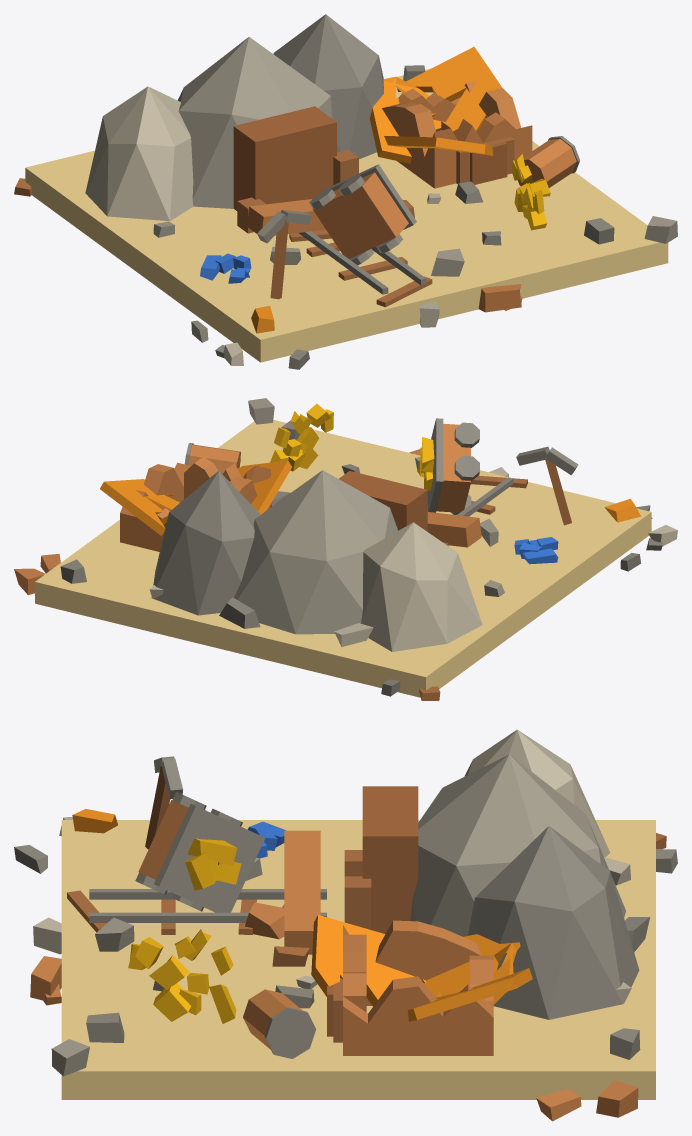
The model's file is mine_t2_v1_dmg2.glb.
3 renders of one model, top to bottom at view 1: azimuth 30°, elevation 25°; view 2: azimuth 150°, elevation 25°; view 3: azimuth 270°, elevation 25°, orthographic. The views are drawn at different scales.
Parts seen in each view (by area): view 1: mine_t2_v1_dmg2; view 2: mine_t2_v1_dmg2; view 3: mine_t2_v1_dmg2.
Boxes of the visible parts, x1,y1,x2,y2 form: mine_t2_v1_dmg2: (14, 14, 677, 369); mine_t2_v1_dmg2: (14, 398, 677, 700); mine_t2_v1_dmg2: (14, 729, 677, 1121).
Bounding box in the file's own units: 0.8685 × 0.2737 × 0.8379.
1 material, 1 textured.
